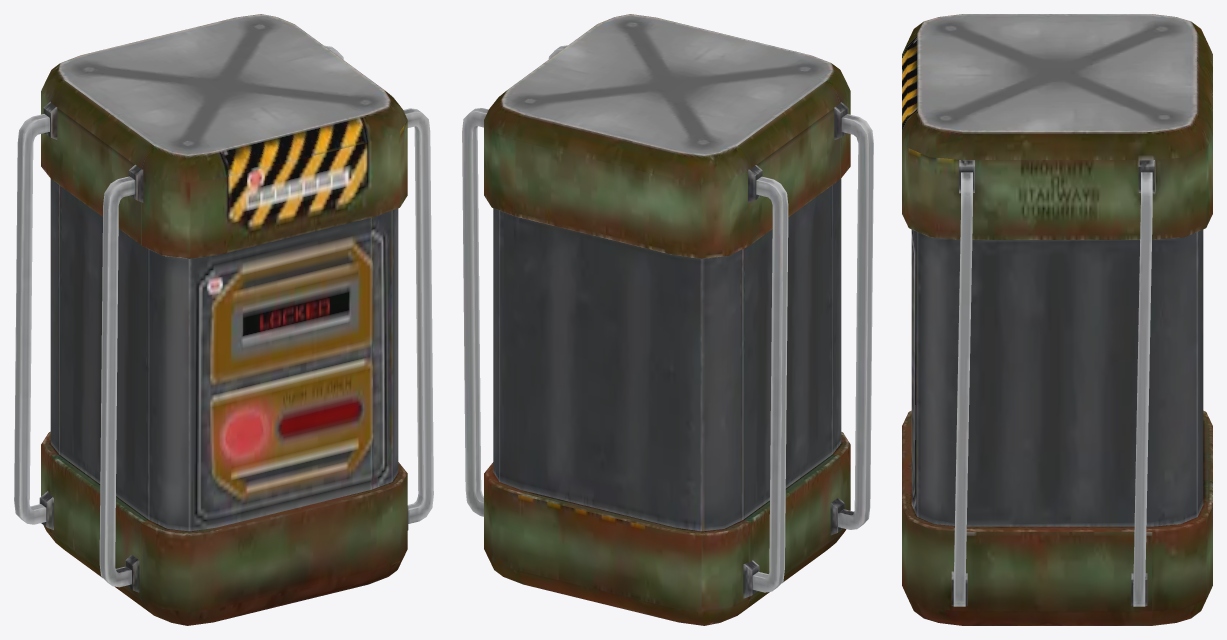
Rendered from env-crate-lp.glb.
3 views of the same model, side by side, from view 1: azimuth 30°, elevation 25°; view 2: azimuth 150°, elevation 25°; view 3: azimuth 270°, elevation 25° (orthographic). The views are drawn at different scales.
Visible parts, largest first — view 1: SM_CRATE_01_LOW_POLY__0; view 2: SM_CRATE_01_LOW_POLY__0; view 3: SM_CRATE_01_LOW_POLY__0.
Part boxes in pixels (<box>): SM_CRATE_01_LOW_POLY__0: <box>14,14,433,625</box>; SM_CRATE_01_LOW_POLY__0: <box>462,14,873,625</box>; SM_CRATE_01_LOW_POLY__0: <box>902,14,1212,625</box>.
Bounding box in the file's own units: 80.14 × 112 × 63.9.
1 material, 1 textured.
